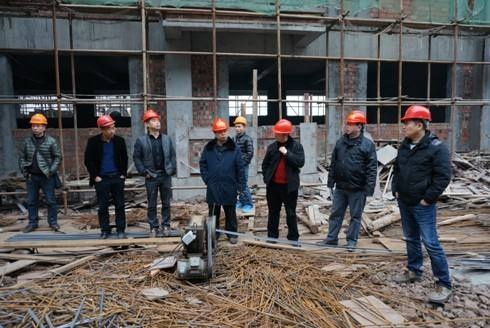red: (400, 104, 432, 139), (343, 108, 366, 135), (272, 117, 293, 141), (210, 117, 229, 142), (96, 113, 116, 136), (141, 108, 161, 131)
yellow: (30, 113, 47, 136), (232, 115, 247, 134)
